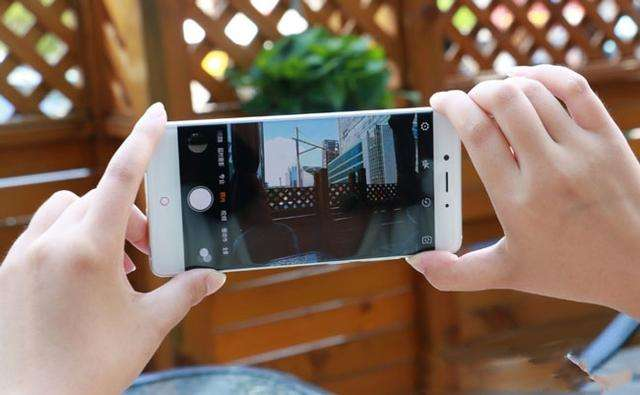taking photos: (7, 58, 631, 381)
